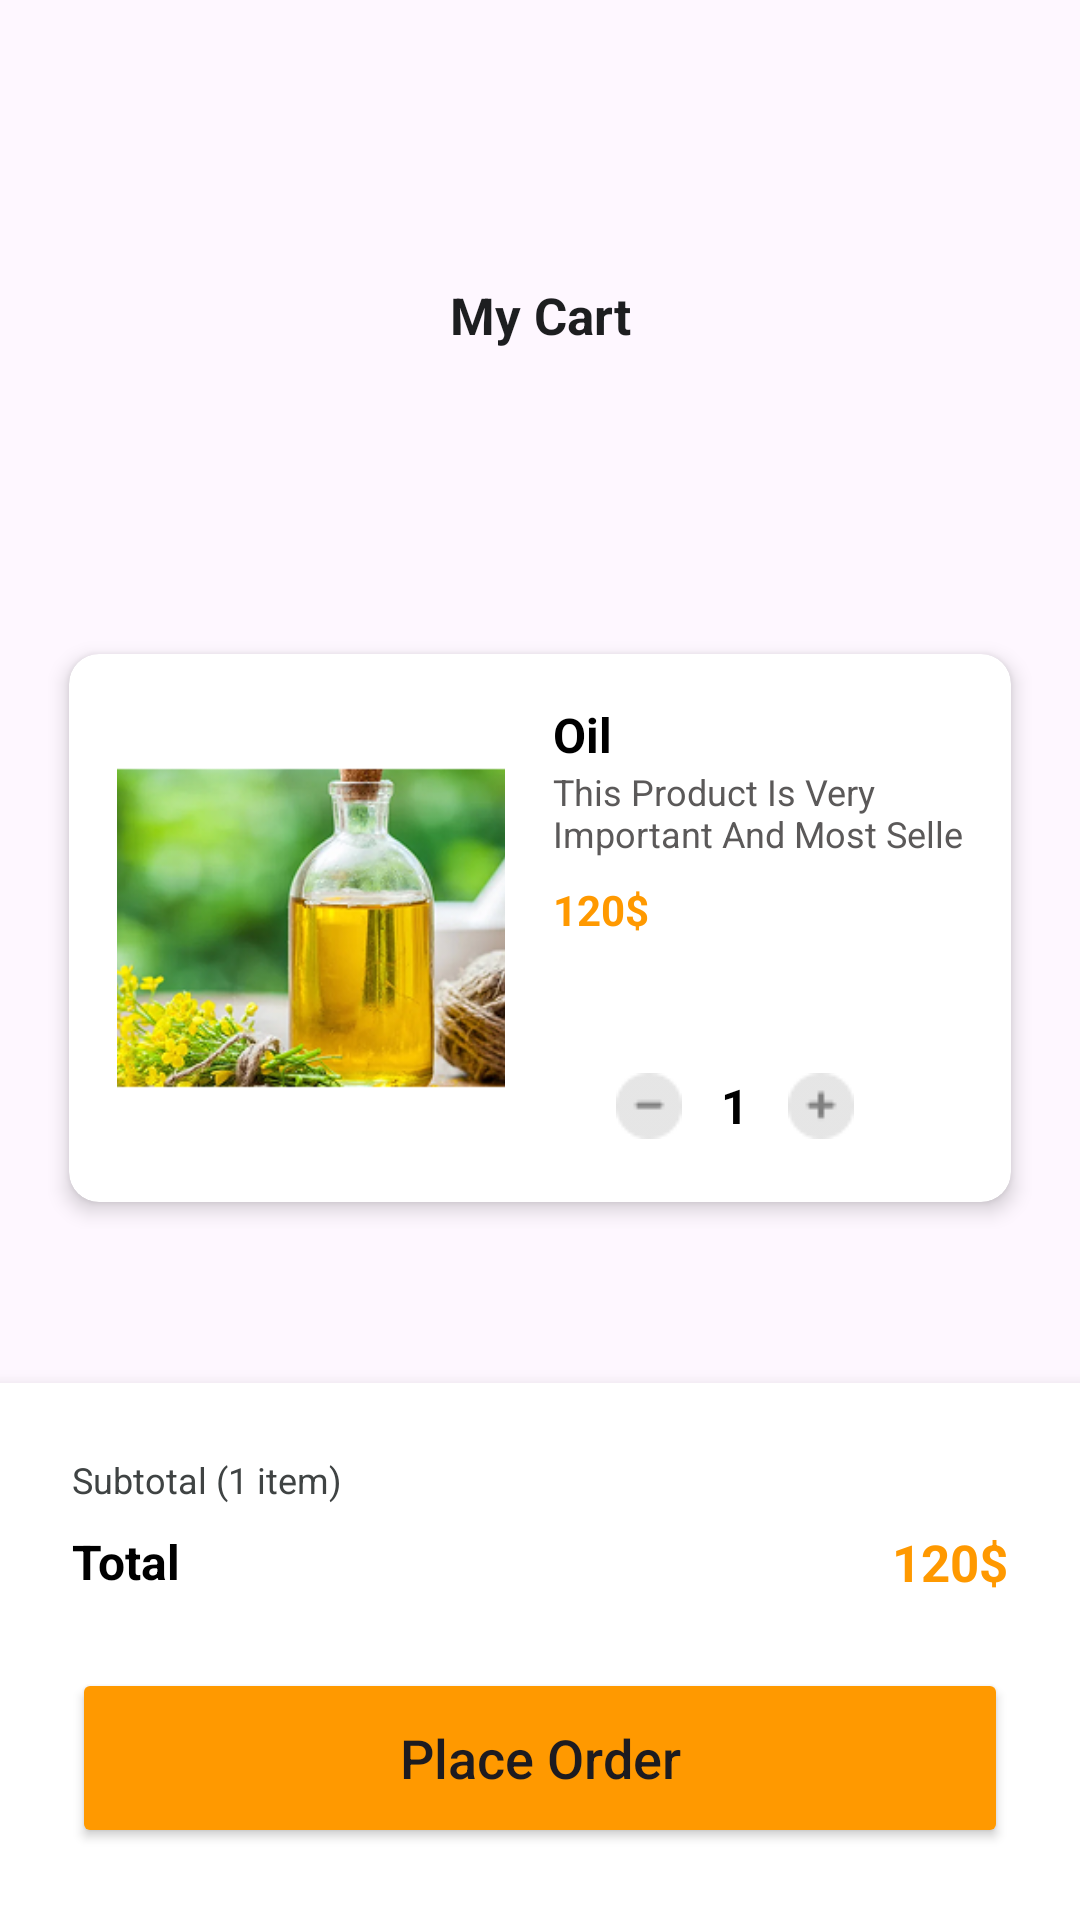

Icons on this 1080x1920 Android screen, each with the point to tap as (x,y):
plus: (821,1106)
რაოდენობის შემცირება: (649,1106)
